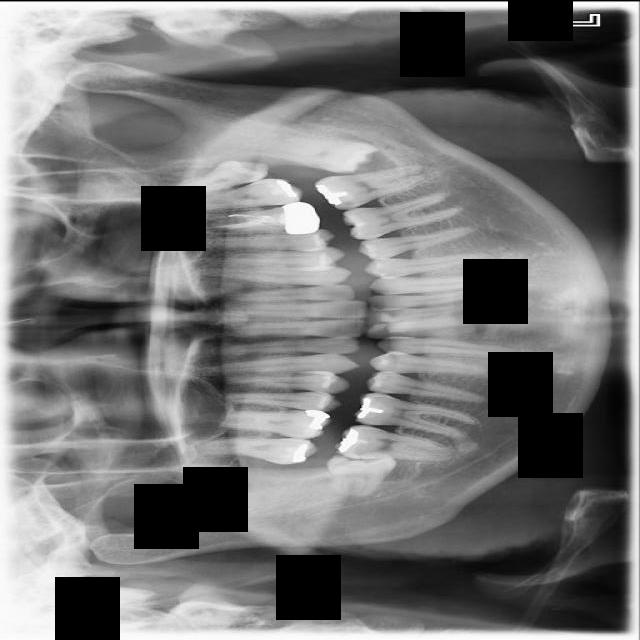52: (282, 198, 323, 236), (311, 182, 348, 208), (356, 395, 387, 425), (335, 426, 363, 456), (276, 174, 299, 200), (304, 408, 331, 429), (291, 440, 311, 465)
73: (193, 205, 290, 242), (570, 45, 582, 53)
BioHorizons Implant: (183, 174, 304, 214)
BioLife Implant: (159, 149, 272, 205)
Biomet 3i Implant: (271, 133, 379, 177)
Blue Sky Bio Implant: (313, 160, 433, 214)
Caries: (193, 436, 318, 464)
Implant: (334, 423, 453, 463)
Keystone Dental Implant: (326, 449, 399, 499)
